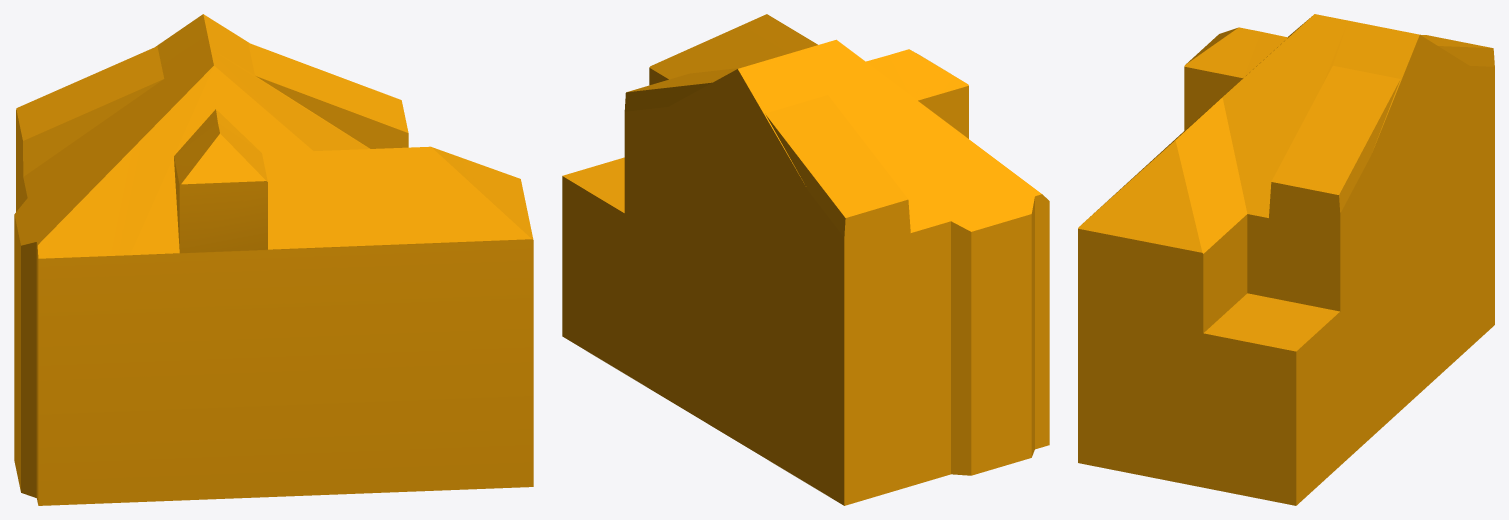
The model's file is DEHB01ALk00017ep.gltf.
The picture shows the model from 3 angles, left to right: view 1: azimuth 30°, elevation 25°; view 2: azimuth 150°, elevation 25°; view 3: azimuth 270°, elevation 25°; orthographic projection. The views are drawn at different scales.
Parts seen in each view (by area): view 1: Z_UP; view 2: Z_UP; view 3: Z_UP.
Part boxes in pixels (x1,y1,x2,y2): Z_UP: [14, 14, 533, 505]; Z_UP: [562, 14, 1049, 505]; Z_UP: [1078, 14, 1494, 505].
Bounding box in the file's own units: 19.2 × 14.34 × 15.1.
